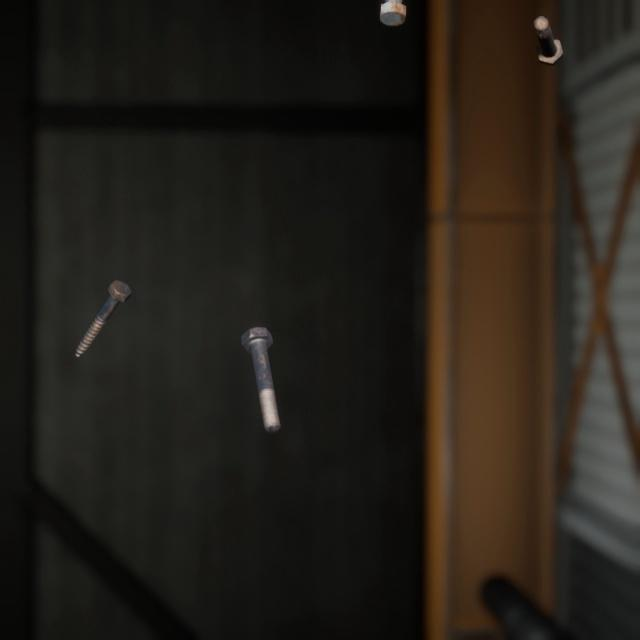bolt: (70, 257, 136, 343), (236, 303, 285, 417), (529, 2, 568, 61), (374, 0, 411, 29)
